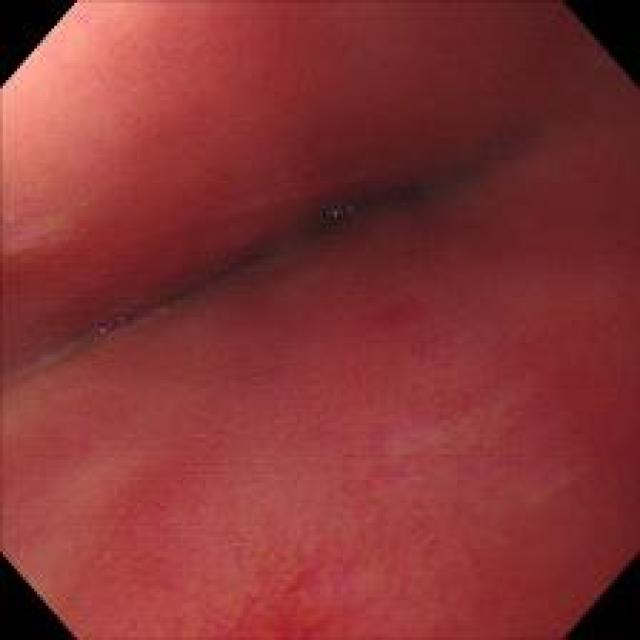color misalignment: (319, 202, 361, 224), (89, 324, 122, 335)
